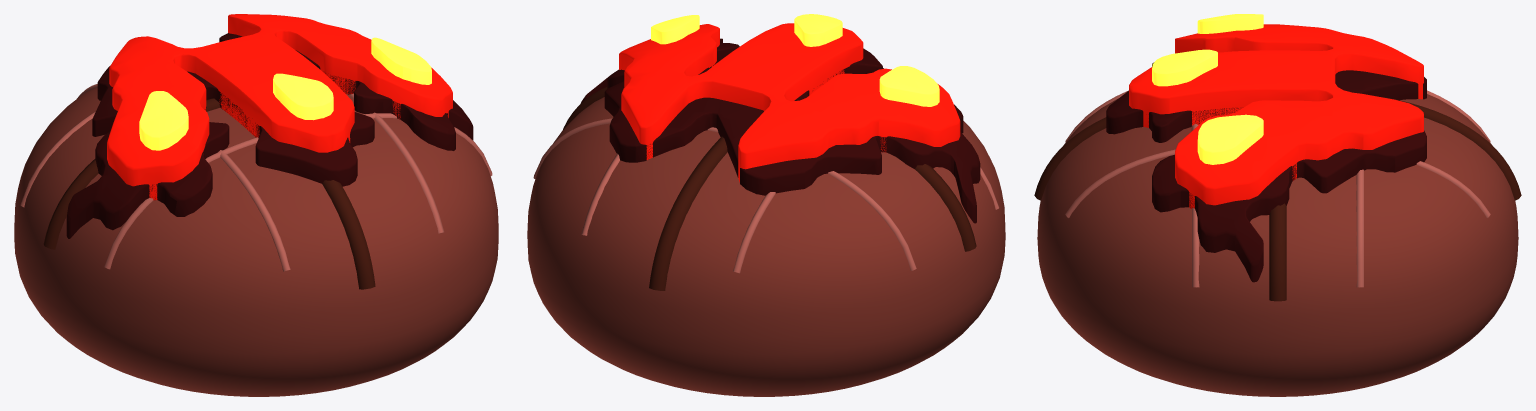
File: pu_multi_rear.glb
3 renders of one model, left to right at view 1: azimuth 30°, elevation 25°; view 2: azimuth 150°, elevation 25°; view 3: azimuth 270°, elevation 25°, orthographic. The views are drawn at different scales.
Parts seen in each view (by area): view 1: orb, flames, flames_base, flame_tips, orb_seam_4, orb_groove_4; view 2: orb, flames, flames_base, orb_groove_4, flame_tips, orb_seam_4; view 3: orb, flames, flames_base, flame_tips, orb_groove_4, orb_seam_4.
Part boxes in pixels (bbox=[...]): orb: bbox=[14, 88, 498, 396]; flames: bbox=[107, 14, 452, 200]; flames_base: bbox=[66, 33, 473, 238]; flame_tips: bbox=[139, 37, 431, 150]; orb_seam_4: bbox=[20, 84, 492, 271]; orb_groove_4: bbox=[43, 98, 375, 289]; orb: bbox=[527, 97, 1005, 396]; flames: bbox=[619, 23, 960, 182]; flames_base: bbox=[580, 38, 980, 223]; orb_groove_4: bbox=[563, 68, 976, 290]; flame_tips: bbox=[651, 14, 939, 106]; orb_seam_4: bbox=[533, 118, 999, 273]; orb: bbox=[1037, 94, 1518, 396]; flames: bbox=[1129, 24, 1423, 209]; flames_base: bbox=[1106, 62, 1426, 282]; flame_tips: bbox=[1152, 14, 1263, 164]; orb_groove_4: bbox=[1034, 97, 1521, 301]; orb_seam_4: bbox=[1065, 90, 1490, 287].
Size of the model in its own units: 20.88 by 13.99 by 21.27.
